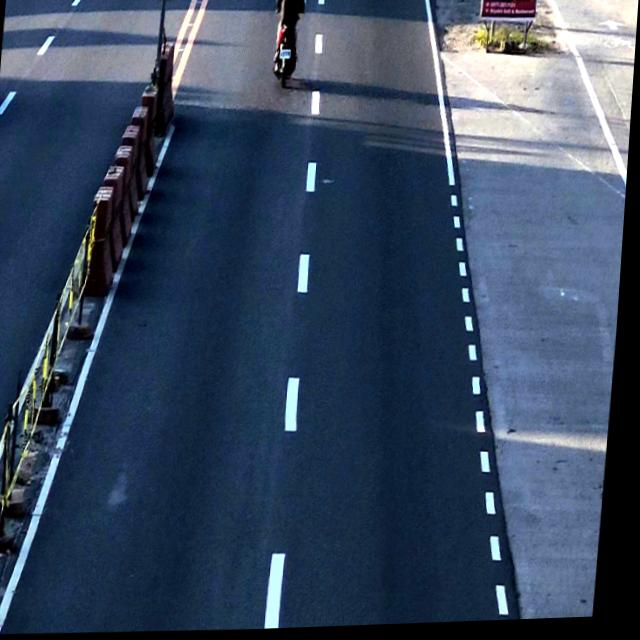License-Plate: (279, 46, 293, 62)
Motorcycle: (271, 0, 301, 88)
